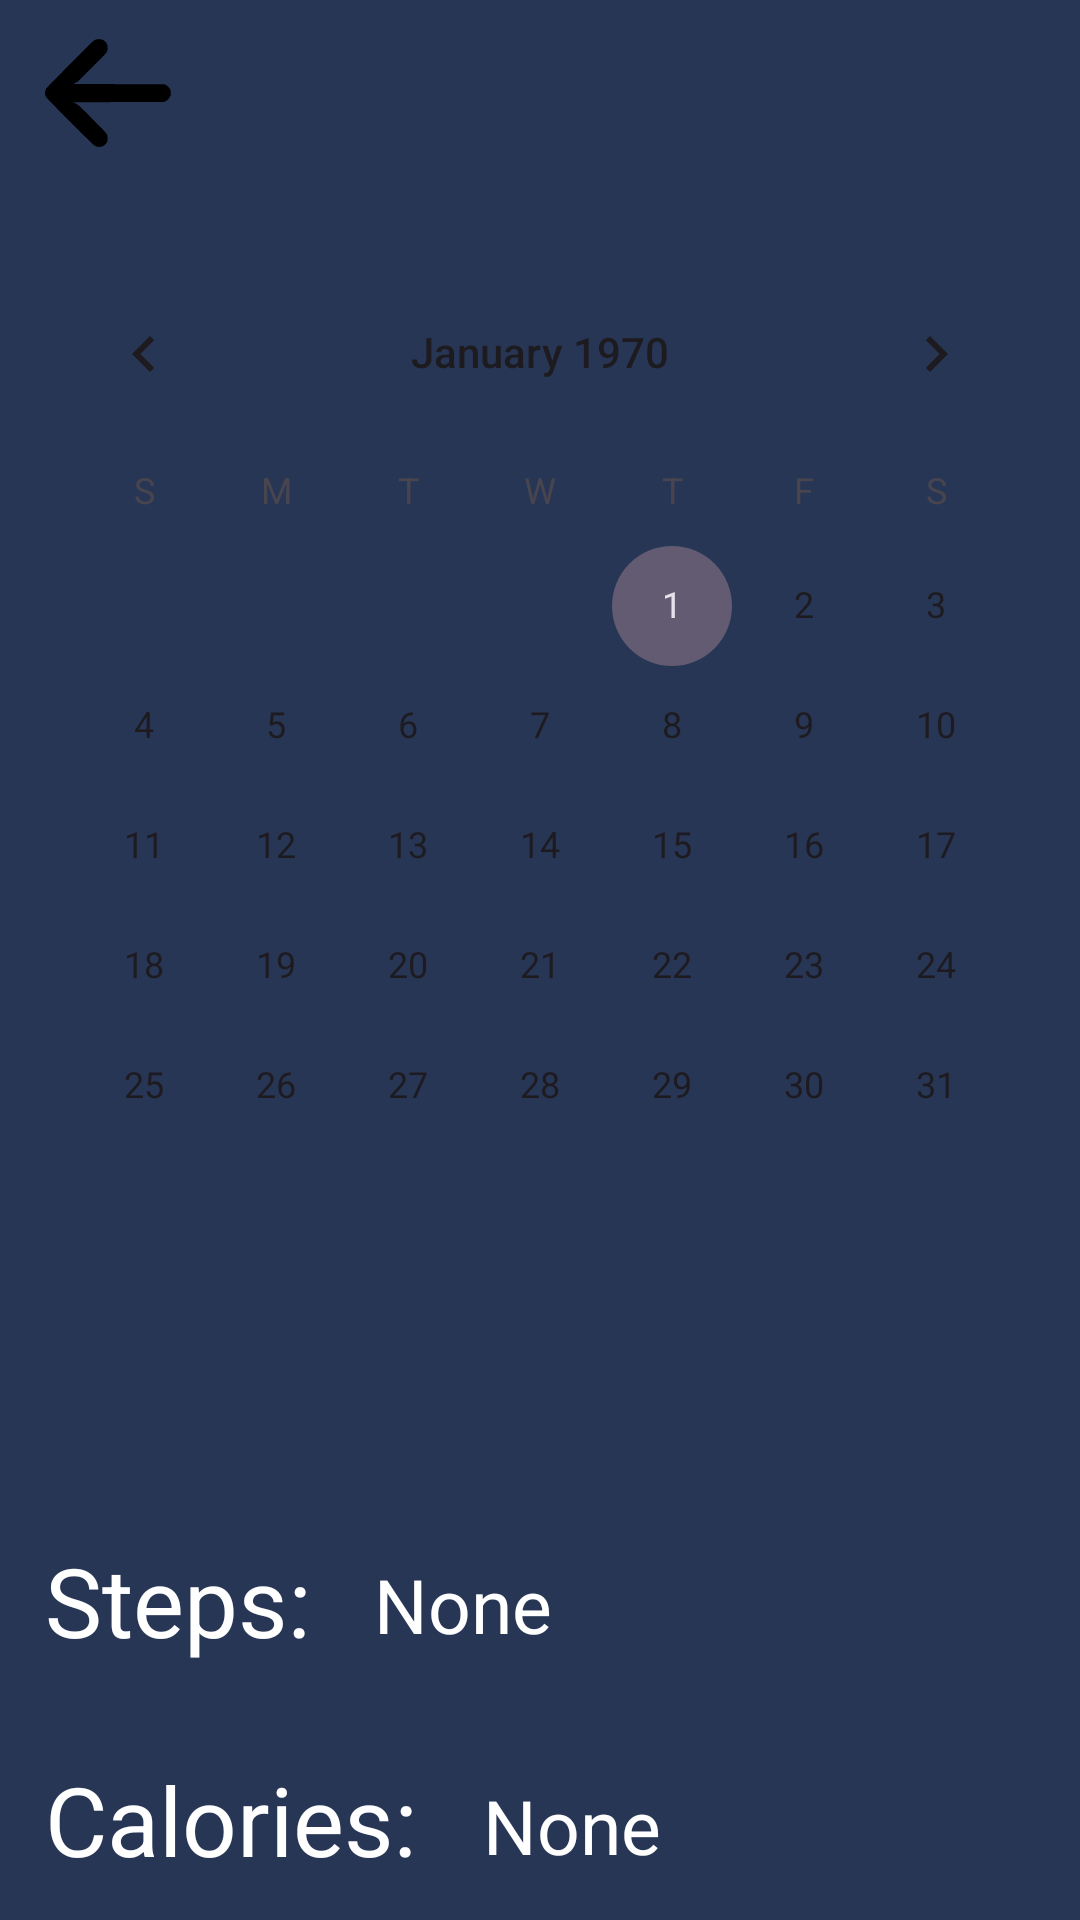

Icons on this 1080px×1920px Android screen, each with the point to tap as [x,y]:
arrow: [108,93]
